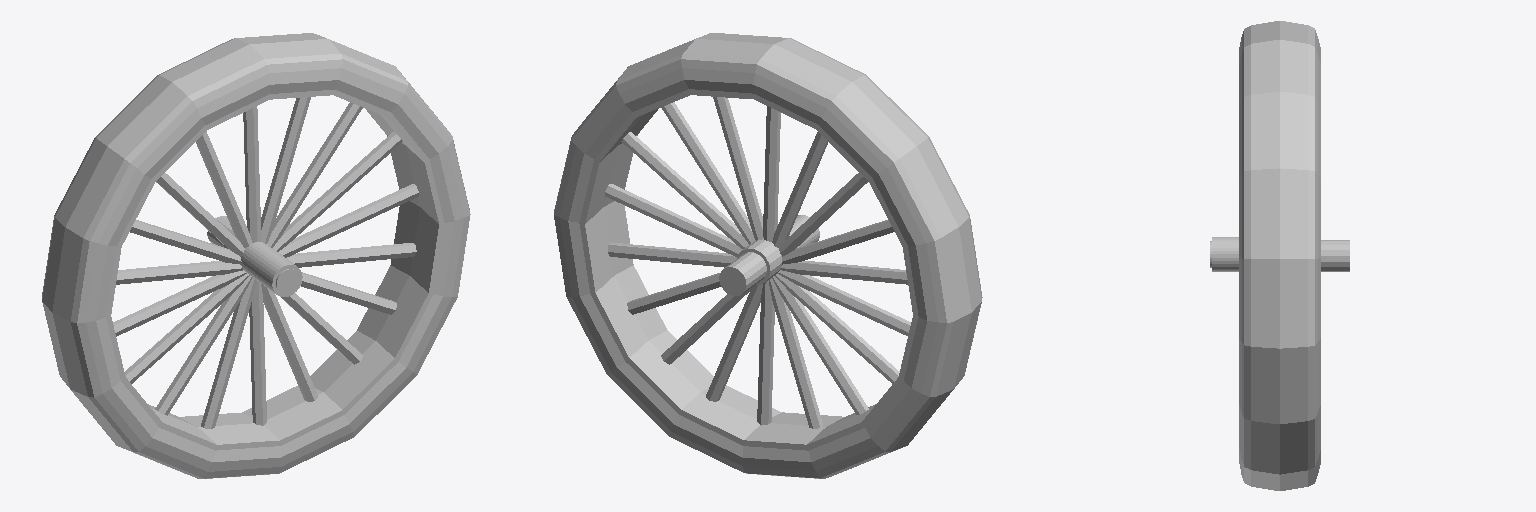
Rendered from motor_back_wheel.obj.
3 renders of one model, left to right at view 1: azimuth 30°, elevation 25°; view 2: azimuth 150°, elevation 25°; view 3: azimuth 270°, elevation 25°, orthographic.
Visible parts, largest first — view 1: back_wheel_Cylinder.027; view 2: back_wheel_Cylinder.027; view 3: back_wheel_Cylinder.027.
Boxes of the visible parts, x1,y1,x2,y2 form: back_wheel_Cylinder.027: [42, 33, 470, 478]; back_wheel_Cylinder.027: [554, 33, 982, 478]; back_wheel_Cylinder.027: [1210, 21, 1349, 490].
Bounding box in the file's own units: 2.39 × 2.39 × 0.7119.